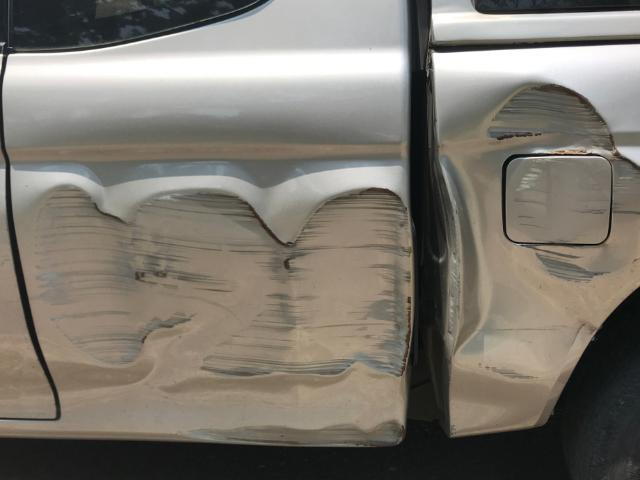Fender: (9, 64, 640, 471)
